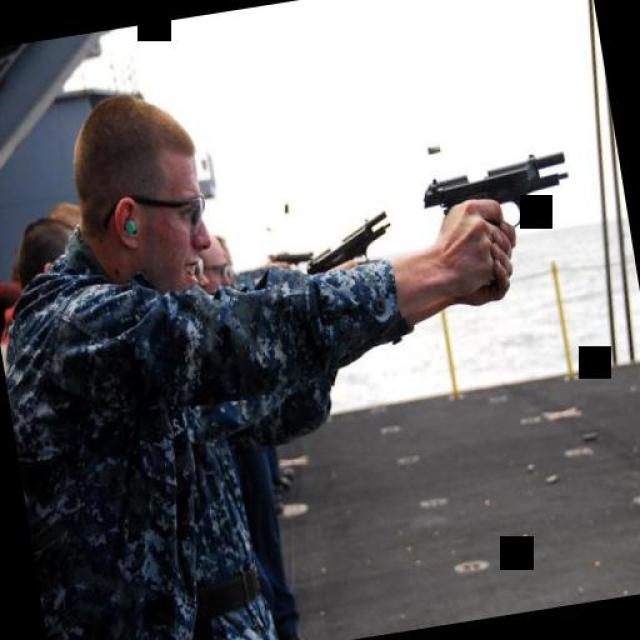gun: (414, 146, 576, 249), (290, 196, 395, 290)
